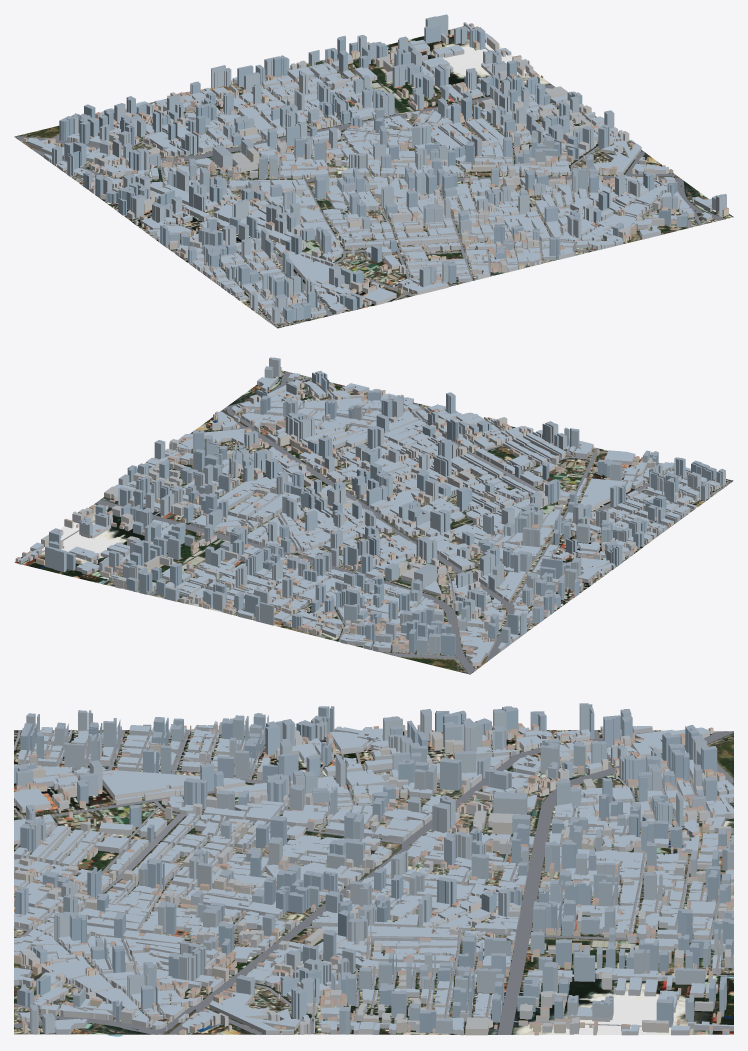
3 views of the same model, one above another, from view 1: azimuth 30°, elevation 25°; view 2: azimuth 150°, elevation 25°; view 3: azimuth 270°, elevation 25° (orthographic). The views are drawn at different scales.
Visible parts, largest first — view 1: BLDG_MODERN_TOWER, BLDG_INDUSTRIAL_PORT, TERRAIN, BLDG_APARTMENT, BLDG_SHOPHOUSE, ROAD_METRO, BLDG_TUBE_HOUSE; view 2: BLDG_MODERN_TOWER, BLDG_INDUSTRIAL_PORT, TERRAIN, BLDG_APARTMENT, BLDG_SHOPHOUSE, ROAD_METRO, BLDG_TUBE_HOUSE; view 3: BLDG_MODERN_TOWER, BLDG_INDUSTRIAL_PORT, TERRAIN, BLDG_APARTMENT, ROAD_METRO, BLDG_SHOPHOUSE, BLDG_TUBE_HOUSE.
Part boxes in pixels (left/top/right/bottom): BLDG_MODERN_TOWER: left=52, top=14, right=726, bottom=323; BLDG_INDUSTRIAL_PORT: left=27, top=22, right=712, bottom=319; TERRAIN: left=14, top=26, right=733, bottom=328; BLDG_APARTMENT: left=91, top=33, right=675, bottom=323; BLDG_SHOPHOUSE: left=48, top=23, right=728, bottom=322; ROAD_METRO: left=15, top=47, right=724, bottom=328; BLDG_TUBE_HOUSE: left=23, top=34, right=719, bottom=309; BLDG_MODERN_TOWER: left=45, top=357, right=725, bottom=655; BLDG_INDUSTRIAL_PORT: left=19, top=373, right=719, bottom=666; TERRAIN: left=14, top=370, right=732, bottom=674; BLDG_APARTMENT: left=41, top=384, right=716, bottom=644; BLDG_SHOPHOUSE: left=15, top=367, right=682, bottom=654; ROAD_METRO: left=42, top=371, right=733, bottom=673; BLDG_TUBE_HOUSE: left=62, top=372, right=688, bottom=668; BLDG_MODERN_TOWER: left=14, top=703, right=733, bottom=1034; BLDG_INDUSTRIAL_PORT: left=14, top=724, right=733, bottom=1035; TERRAIN: left=14, top=729, right=733, bottom=1034; BLDG_APARTMENT: left=14, top=721, right=733, bottom=1035; ROAD_METRO: left=14, top=729, right=733, bottom=1034; BLDG_SHOPHOUSE: left=14, top=723, right=733, bottom=1035; BLDG_TUBE_HOUSE: left=14, top=726, right=733, bottom=1035.
Size of the model in its own units: 2000 by 97.51 by 2000.
8 materials, 1 textured.
